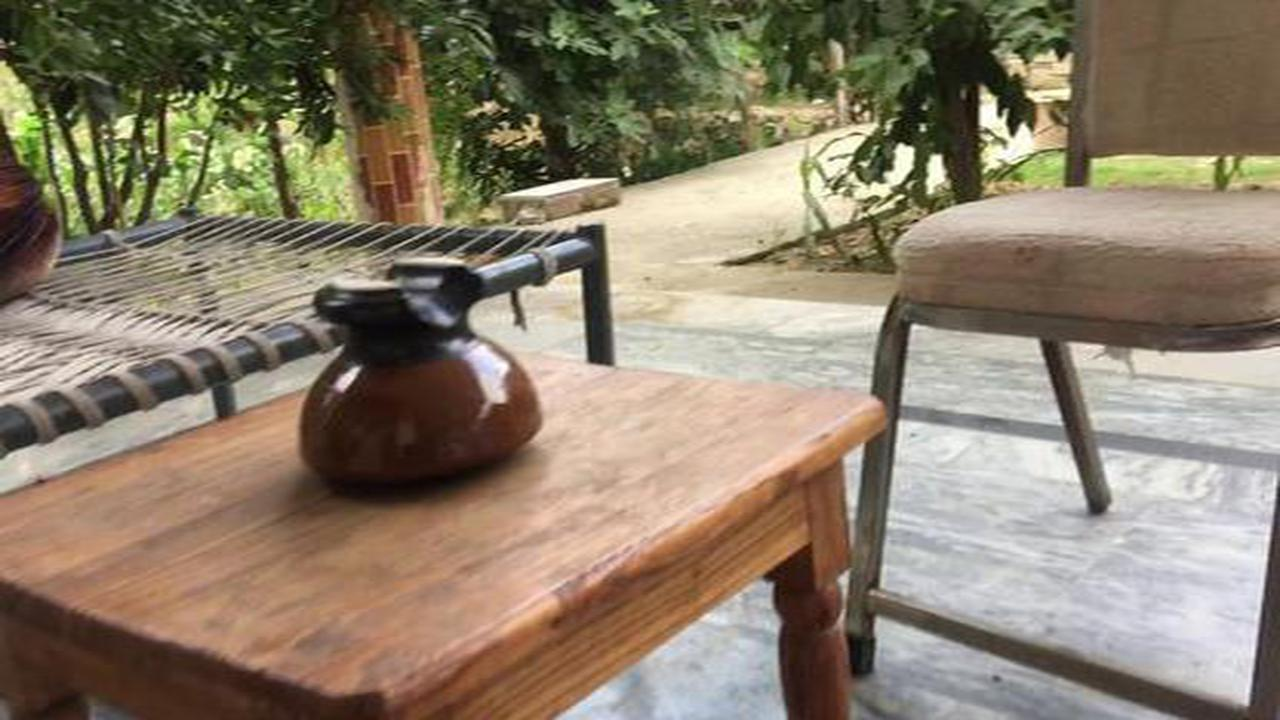insulator_pin: (268, 246, 551, 509)
